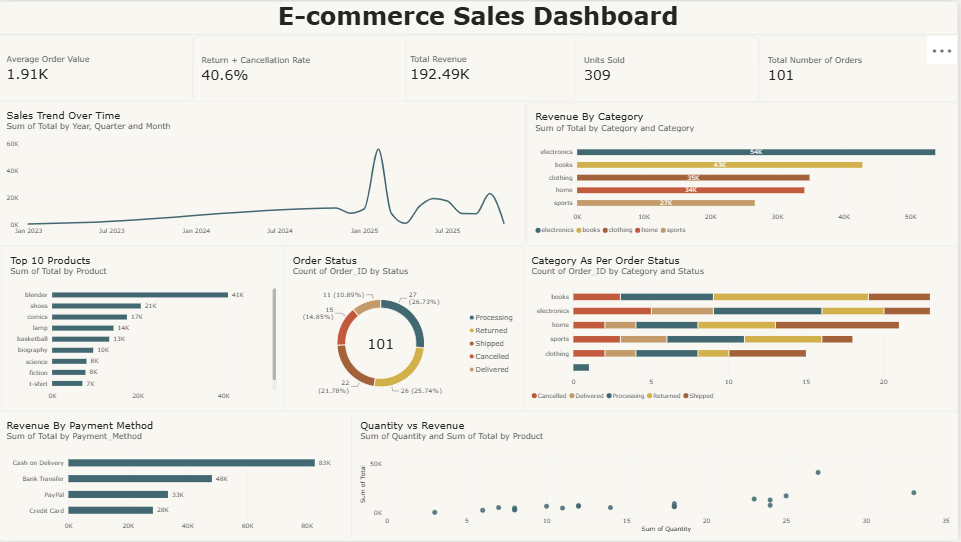

What the dashboard file says about the page in this screenshot:
{"tool":"powerbi","page":{"name":"Duplicate of Page 1","canvas":[1920,1080],"ordinal":1},"visuals":[{"type":"cardVisual","fields":{"Data":["CountNonNull(Cleaned_dataset.Order_ID)"]},"box":[1522.5,70,397.5,132.5],"z":0},{"type":"lineChart","title":"Sales Trend Over Time","fields":{"Y":["Sum(Cleaned_dataset.Total)"],"Category":["Cleaned_dataset.Order_Date.Variation.Date Hierarchy.Year","Cleaned_dataset.Order_Date.Variation.Date Hierarchy.Quarter","Cleaned_dataset.Order_Date.Variation.Date Hierarchy.Month"]},"box":[0,200,1055,289],"z":1000},{"type":"cardVisual","fields":{"Data":["Sum(Cleaned_dataset.Quantity)"]},"box":[1155,70,367.5,132.5],"z":2000},{"type":"cardVisual","fields":{"Data":["Sum(Cleaned_dataset.Total)"]},"box":[807.5,67.5,347.5,132.5],"z":3000},{"type":"cardVisual","fields":{"Data":["Cleaned_dataset.Average Order Value"]},"box":[0,67.5,390,132.5],"z":4000},{"type":"cardVisual","fields":{"Data":["Cleaned_dataset.Return + Cancellation Rate"]},"box":[390,70,426,132],"z":5000},{"type":"barChart","title":"Revenue By Category","fields":{"Category":["Cleaned_dataset.Category"],"Y":["Sum(Cleaned_dataset.Total)"],"Series":["Cleaned_dataset.Category"]},"box":[1056.7,203.3,863.3,286.7],"z":6000},{"type":"clusteredBarChart","title":"Top 10 Products","fields":{"Category":["Cleaned_dataset.Product"],"Y":["Sum(Cleaned_dataset.Total)"]},"box":[6.7,490,566.7,330],"z":7000},{"type":"clusteredBarChart","title":"Revenue By Payment Method ","fields":{"Category":["Cleaned_dataset.Payment_Method"],"Y":["Sum(Cleaned_dataset.Total)"]},"box":[0,820,706.7,260],"z":8000},{"type":"donutChart","title":"Order Status","fields":{"Category":["Cleaned_dataset.Status"],"Y":["CountNonNull(Cleaned_dataset.Order_ID)"]},"box":[573.3,490,483.3,330],"z":9000},{"type":"barChart","title":"Category As Per Order Status","fields":{"Category":["Cleaned_dataset.Category"],"Series":["Cleaned_dataset.Status"],"Y":["CountNonNull(Cleaned_dataset.Order_ID)"]},"box":[1050,490,870,330],"z":10000},{"type":"scatterChart","title":"Quantity vs Revenue","fields":{"X":["Sum(Cleaned_dataset.Quantity)"],"Y":["Sum(Cleaned_dataset.Total)"],"Category":["Cleaned_dataset.Product"]},"box":[706.7,820,1213.3,260],"z":11000},{"type":"textbox","box":[0,0,1920,67.5],"z":11001}]}

Visuals, with their boxes in screenshot pixels (x1, y1, x2, y2), scaled from the page's 1920x1080 canvas onto the 961x542 screenshot:
cardVisual - CountNonNull(Cleaned_dataset.Order_ID): [762,35,960,102]
"Sales Trend Over Time" lineChart: [0,100,528,245]
cardVisual - Sum(Cleaned_dataset.Quantity): [578,35,762,102]
cardVisual - Sum(Cleaned_dataset.Total): [404,34,578,100]
cardVisual - Cleaned_dataset.Average Order Value: [0,34,195,100]
cardVisual - Cleaned_dataset.Return + Cancellation Rate: [195,35,408,101]
"Revenue By Category" barChart: [529,102,960,246]
"Top 10 Products" clusteredBarChart: [3,246,287,412]
"Revenue By Payment Method " clusteredBarChart: [0,412,354,541]
"Order Status" donutChart: [287,246,529,412]
"Category As Per Order Status" barChart: [526,246,960,412]
"Quantity vs Revenue" scatterChart: [354,412,960,541]
textbox: [0,0,960,34]
